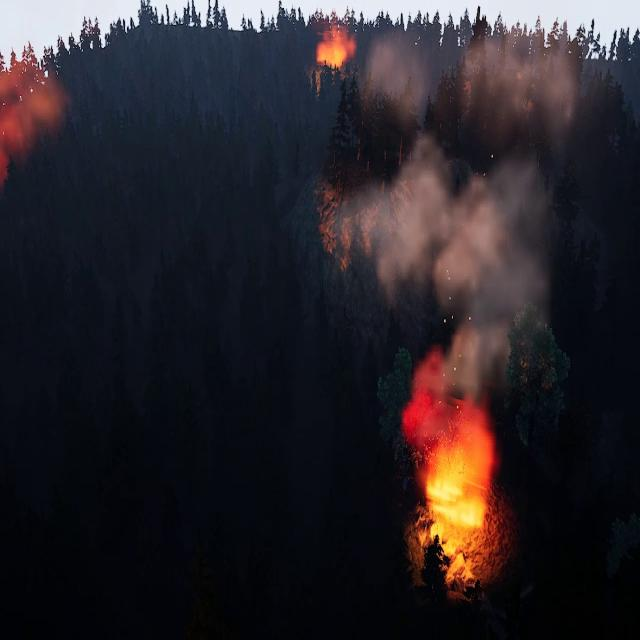fire: (409, 415, 493, 532)
smoke: (348, 18, 578, 440), (0, 65, 64, 202), (320, 22, 356, 62)
